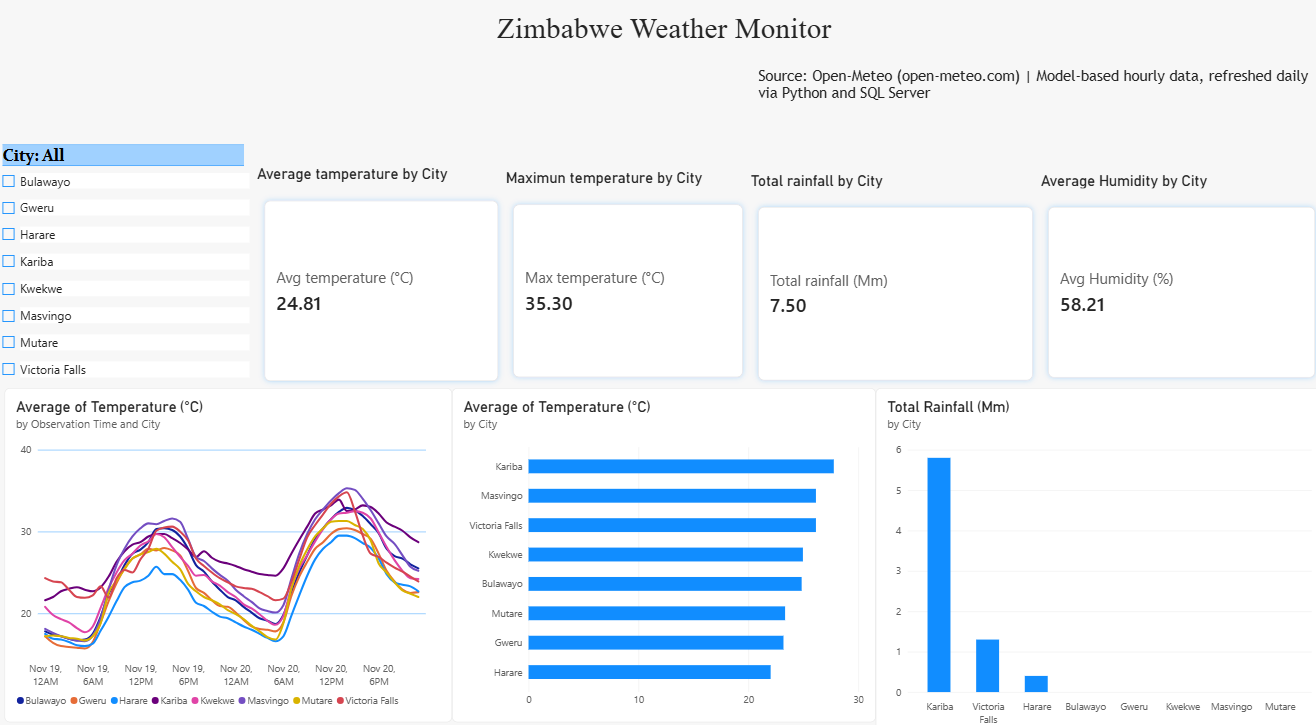

The page's visual inventory and layout, read from the dashboard file:
{"tool":"powerbi","page":{"name":"Page 1","canvas":[1920,1080],"ordinal":0},"visuals":[{"type":"slicer","fields":{"Values":["WeatherHourly.City"]},"box":[0,219,365.6,349.3],"z":0},{"type":"cardVisual","title":"Average temperature ","fields":{"Data":["Avg(WeatherHourly.TempC)"]},"box":[376.7,249.1,360.2,323.2],"z":1000},{"type":"cardVisual","title":"Maximum temperature ","fields":{"Data":["Max(WeatherHourly.TempC)"]},"box":[737,260.4,354,312.9],"z":2000},{"type":"cardVisual","title":"Total rainfall ","fields":{"Data":["Sum(WeatherHourly.PrecipMm)"]},"box":[1091.1,261.5,419.8,313.1],"z":3000},{"type":"lineChart","title":"Hourly Temperature (°C)","fields":{"Category":["WeatherHourly.ObsTime"],"Series":["WeatherHourly.City"],"Y":["Avg(WeatherHourly.TempC)"]},"box":[10.3,572.2,648.4,483.7],"z":4000},{"type":"clusteredBarChart","title":"Average of Temperature (°C)","fields":{"Category":["WeatherHourly.City"],"Y":["Avg(WeatherHourly.TempC)"]},"box":[658.7,572.2,613.4,483.7],"z":5000},{"type":"clusteredColumnChart","title":"Total Rainfall (mm)","fields":{"Category":["WeatherHourly.City"],"Y":["Sum(WeatherHourly.PrecipMm)"]},"box":[1272.2,571.9,647.9,483.2],"z":6000},{"type":"cardVisual","title":"Average Humidity ","fields":{"Data":["Avg(WeatherHourly.HumidityPct)"]},"box":[1511,262.8,409,309.5],"z":7000},{"type":"textbox","box":[580.4,24.7,769.8,131.7],"z":8000},{"type":"textbox","box":[1102.1,106.8,818,63.3],"z":9000}]}

Visuals, with their boxes in screenshot pixels (x1, y1, x2, y2), scaled from the page's 1920x1080 canvas onto the 1316x725 screenshot:
slicer - WeatherHourly.City: {"left": 0, "top": 147, "right": 251, "bottom": 381}
"Average temperature " cardVisual: {"left": 258, "top": 167, "right": 505, "bottom": 384}
"Maximum temperature " cardVisual: {"left": 505, "top": 175, "right": 748, "bottom": 385}
"Total rainfall " cardVisual: {"left": 748, "top": 176, "right": 1036, "bottom": 386}
"Hourly Temperature (°C)" lineChart: {"left": 7, "top": 384, "right": 451, "bottom": 709}
"Average of Temperature (°C)" clusteredBarChart: {"left": 451, "top": 384, "right": 872, "bottom": 709}
"Total Rainfall (mm)" clusteredColumnChart: {"left": 872, "top": 384, "right": 1315, "bottom": 708}
"Average Humidity " cardVisual: {"left": 1036, "top": 176, "right": 1315, "bottom": 384}
textbox: {"left": 398, "top": 17, "right": 925, "bottom": 105}
textbox: {"left": 755, "top": 72, "right": 1315, "bottom": 114}
